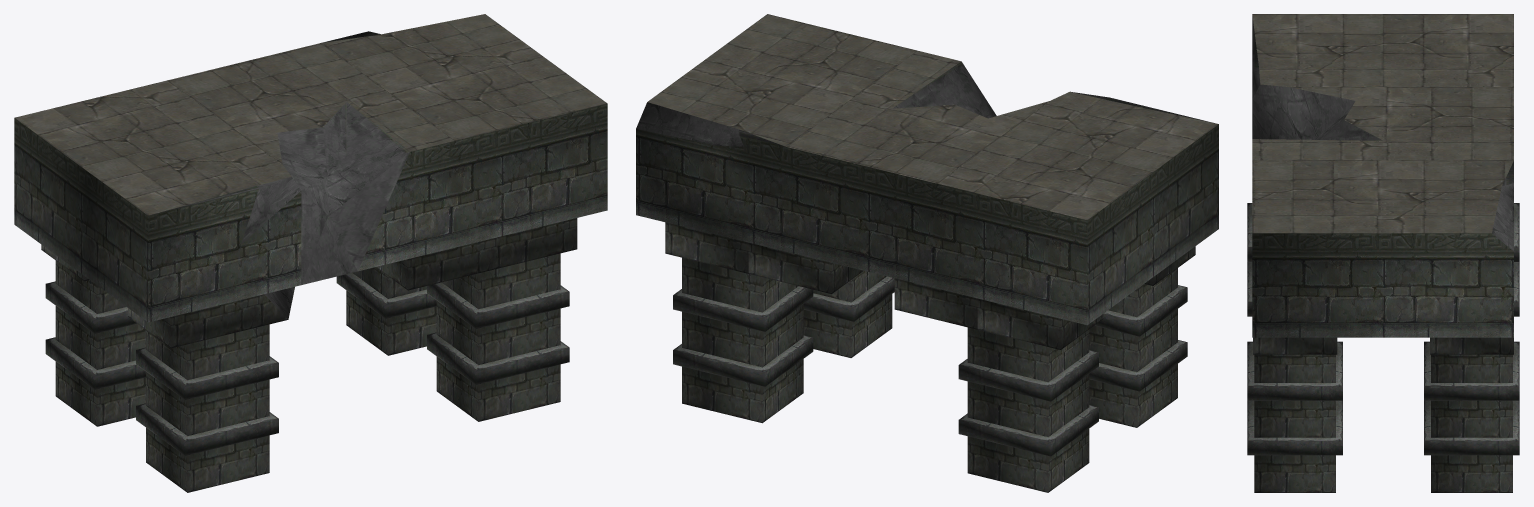
File: environment_Building_qiaoliang_005_a.FBX
3 views of the same model, side by side, from view 1: azimuth 30°, elevation 25°; view 2: azimuth 150°, elevation 25°; view 3: azimuth 270°, elevation 25° (orthographic). The views are drawn at different scales.
Parts seen in each view (by area): view 1: environment_Building_qiaoliang_005_a01, environment_Building_qiaoliang_005_a02; view 2: environment_Building_qiaoliang_005_a01, environment_Building_qiaoliang_005_a02; view 3: environment_Building_qiaoliang_005_a01, environment_Building_qiaoliang_005_a02.
Part boxes in pixels (x1,y1,x2,y2): environment_Building_qiaoliang_005_a01: (14,31,607,492); environment_Building_qiaoliang_005_a02: (14,14,607,215); environment_Building_qiaoliang_005_a01: (636,61,1218,492); environment_Building_qiaoliang_005_a02: (648,14,1218,220); environment_Building_qiaoliang_005_a01: (1247,16,1519,492); environment_Building_qiaoliang_005_a02: (1252,14,1513,233).
Size of the model in its own units: 425 by 254 by 223.
